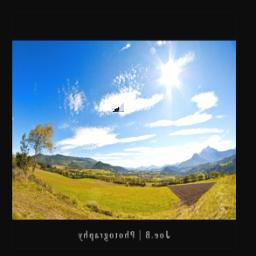Crow: (105, 58, 123, 113)
